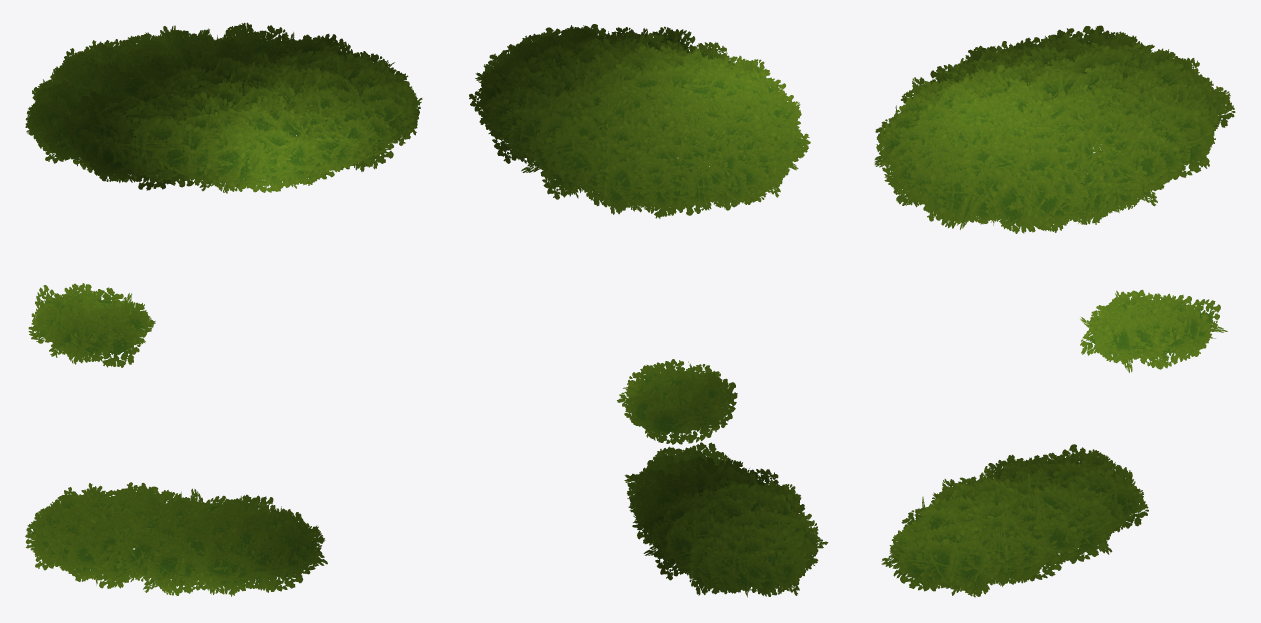
Rendered from NewTreeLeaves.fbx.
3 views of the same model, side by side, from view 1: azimuth 30°, elevation 25°; view 2: azimuth 150°, elevation 25°; view 3: azimuth 270°, elevation 25° (orthographic). The views are drawn at different scales.
Parts seen in each view (by area): view 1: TreeLeaves.004, TreeLeaves.002, TreeLeaves.006; view 2: TreeLeaves.004, TreeLeaves.002, TreeLeaves.006; view 3: TreeLeaves.004, TreeLeaves.002, TreeLeaves.006.
Boxes of the visible parts, x1=… form: TreeLeaves.004: x1=25, y1=22, x2=422, y2=193; TreeLeaves.002: x1=25, y1=482, x2=327, y2=596; TreeLeaves.006: x1=28, y1=283, x2=155, y2=367; TreeLeaves.004: x1=469, y1=24, x2=810, y2=218; TreeLeaves.002: x1=624, y1=442, x2=828, y2=597; TreeLeaves.006: x1=617, y1=359, x2=737, y2=444; TreeLeaves.004: x1=874, y1=25, x2=1235, y2=233; TreeLeaves.002: x1=881, y1=444, x2=1148, y2=597; TreeLeaves.006: x1=1080, y1=289, x2=1227, y2=372.
Size of the model in its own units: 3111 by 4085 by 2701.
Materials: 1 (1 with a texture image).
